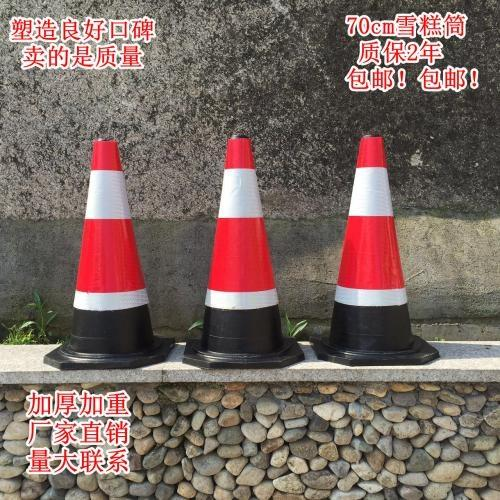cone_barrel: (188, 138, 298, 367), (319, 139, 430, 363), (55, 144, 165, 363)
